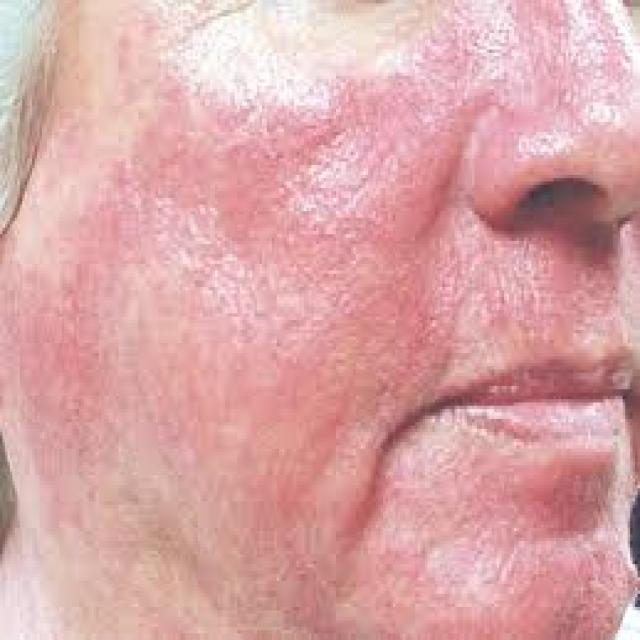Rosacea: (33, 83, 464, 556), (477, 0, 629, 164), (397, 551, 628, 638)
